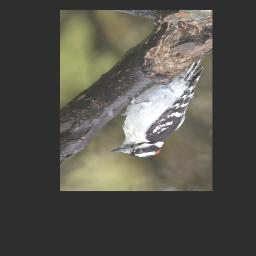Woodpecker: (109, 56, 203, 158)
